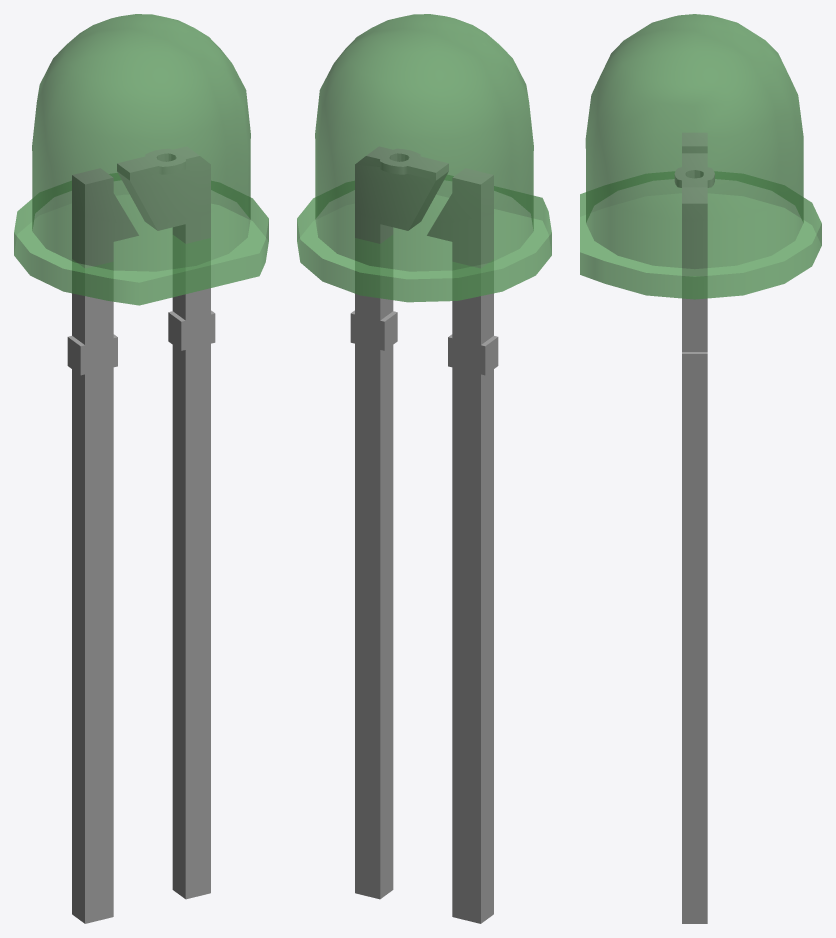
The model's file is led.fbx.
3 views of the same model, side by side, from view 1: azimuth 30°, elevation 25°; view 2: azimuth 150°, elevation 25°; view 3: azimuth 270°, elevation 25° (orthographic).
Parts seen in each view (by area): view 1: pSphere1, pCube2, pCube3; view 2: pSphere1, pCube2, pCube3; view 3: pSphere1, pCube2, pCube3.
Part boxes in pixels (box(x1,y1,x2,y2)): pSphere1: box(14, 14, 268, 305); pCube2: box(117, 146, 215, 899); pCube3: box(67, 168, 138, 923); pSphere1: box(297, 14, 551, 302); pCube2: box(350, 146, 448, 899); pCube3: box(427, 168, 498, 923); pSphere1: box(580, 14, 821, 299); pCube2: box(674, 153, 714, 923); pCube3: box(682, 132, 707, 153).
Size of the model in its own units: 2.34 by 8.82 by 2.22.
